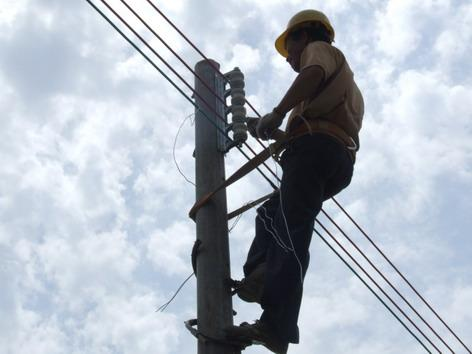boots: (225, 319, 289, 354), (236, 263, 266, 302)
gloves: (255, 108, 284, 140)
hard-hat: (274, 9, 334, 58)
person: (230, 9, 365, 354)
